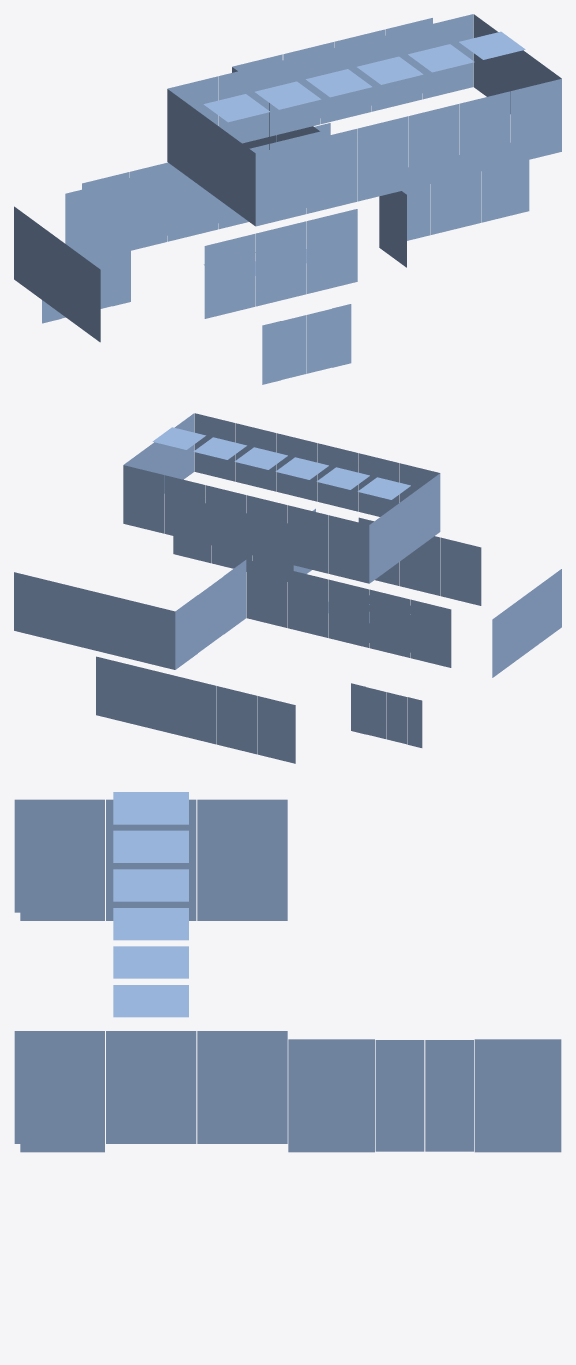
The model's file is Mesh742 Model Edit.fbx.
3 views of the same model, one above another, from view 1: azimuth 30°, elevation 25°; view 2: azimuth 150°, elevation 25°; view 3: azimuth 270°, elevation 25° (orthographic). The views are drawn at different scales.
Parts seen in each view (by area): view 1: Mesh742 Model.008; view 2: Mesh742 Model.008; view 3: Mesh742 Model.008.
Boxes of the visible parts, left/top/right/bottom form: Mesh742 Model.008: left=14, top=14, right=561, bottom=384; Mesh742 Model.008: left=14, top=413, right=561, bottom=763; Mesh742 Model.008: left=14, top=792, right=561, bottom=1152.
Bounding box in the file's own units: 1987 × 899 × 1201.
